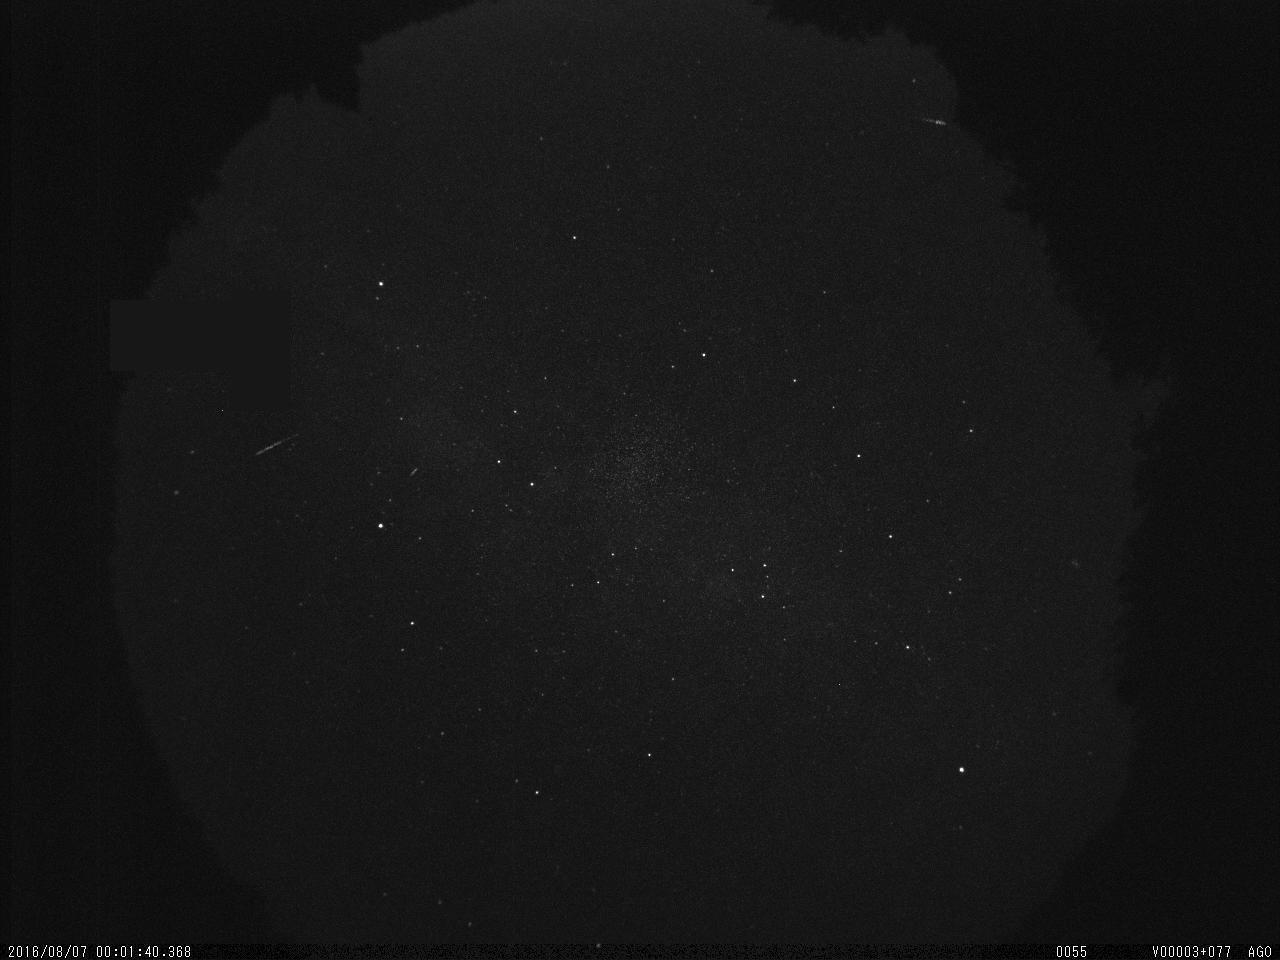meteor: (246, 423, 312, 465)
